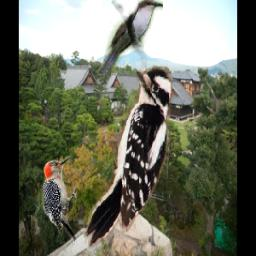Cuckoo: (91, 0, 163, 91)
Woodpecker: (84, 67, 172, 251), (39, 154, 78, 245)
